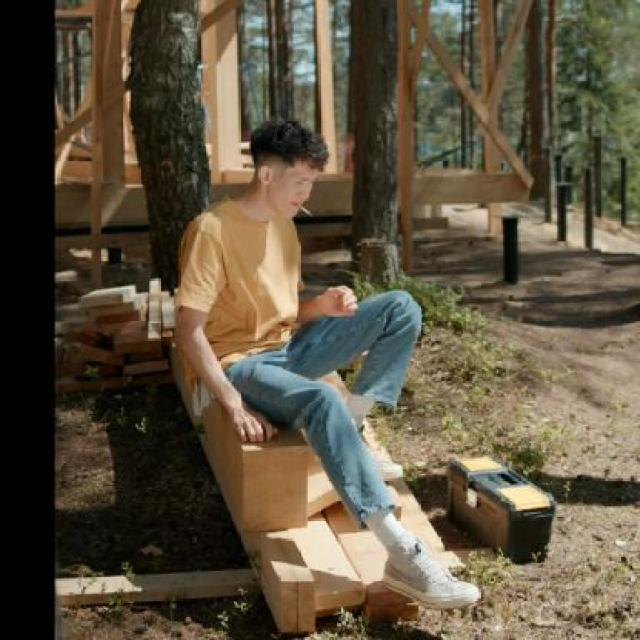cigarette: (285, 194, 317, 221)
